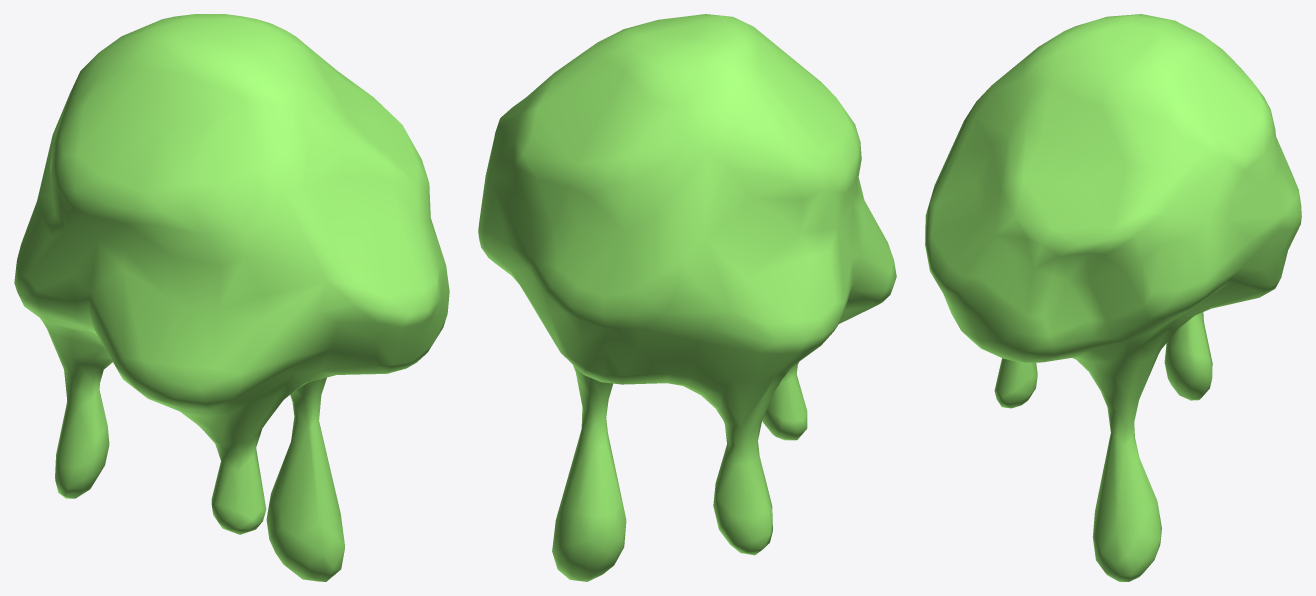
Rendered from slime_ball_.fbx.
3 renders of one model, left to right at view 1: azimuth 30°, elevation 25°; view 2: azimuth 150°, elevation 25°; view 3: azimuth 270°, elevation 25°, orthographic. The views are drawn at different scales.
Parts seen in each view (by area): view 1: slime_ball; view 2: slime_ball; view 3: slime_ball.
Part boxes in pixels (left/top/right/bottom): slime_ball: left=14, top=14, right=449, bottom=581; slime_ball: left=478, top=14, right=896, bottom=581; slime_ball: left=925, top=14, right=1301, bottom=581.
Bounding box in the file's own units: 23.56 × 36.25 × 24.56.
